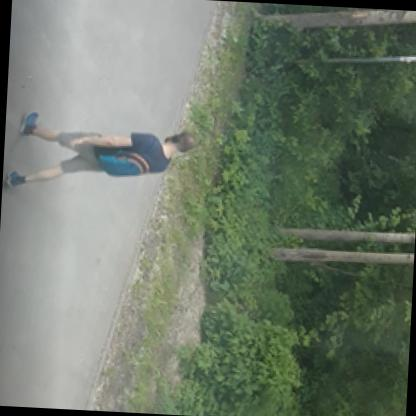Human Body: (3, 99, 199, 197)
